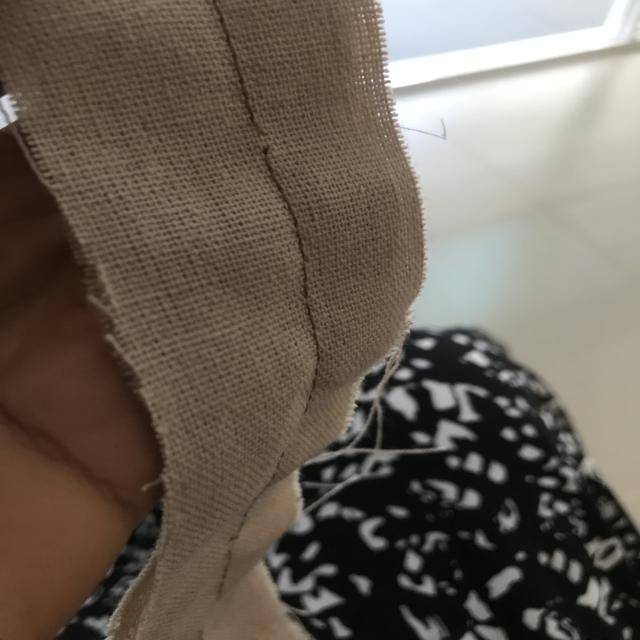broken: (244, 117, 292, 163)
